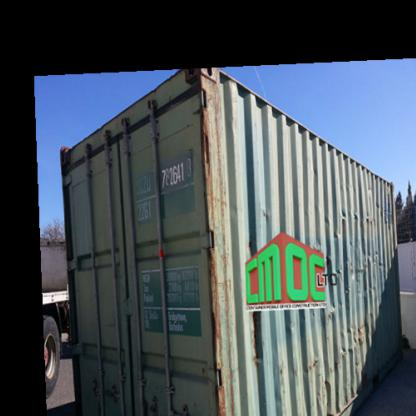Damage: (190, 71, 245, 415), (332, 314, 373, 368), (303, 351, 331, 415), (331, 197, 381, 231), (345, 244, 385, 286)
